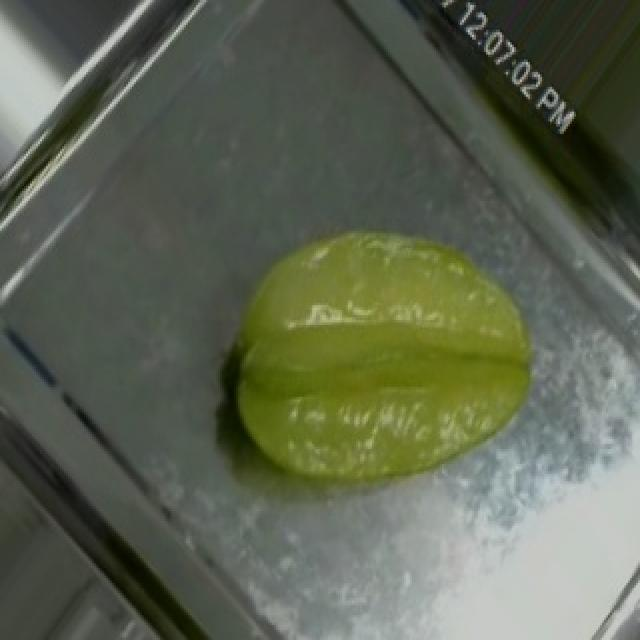fruit: (184, 134, 606, 543)
